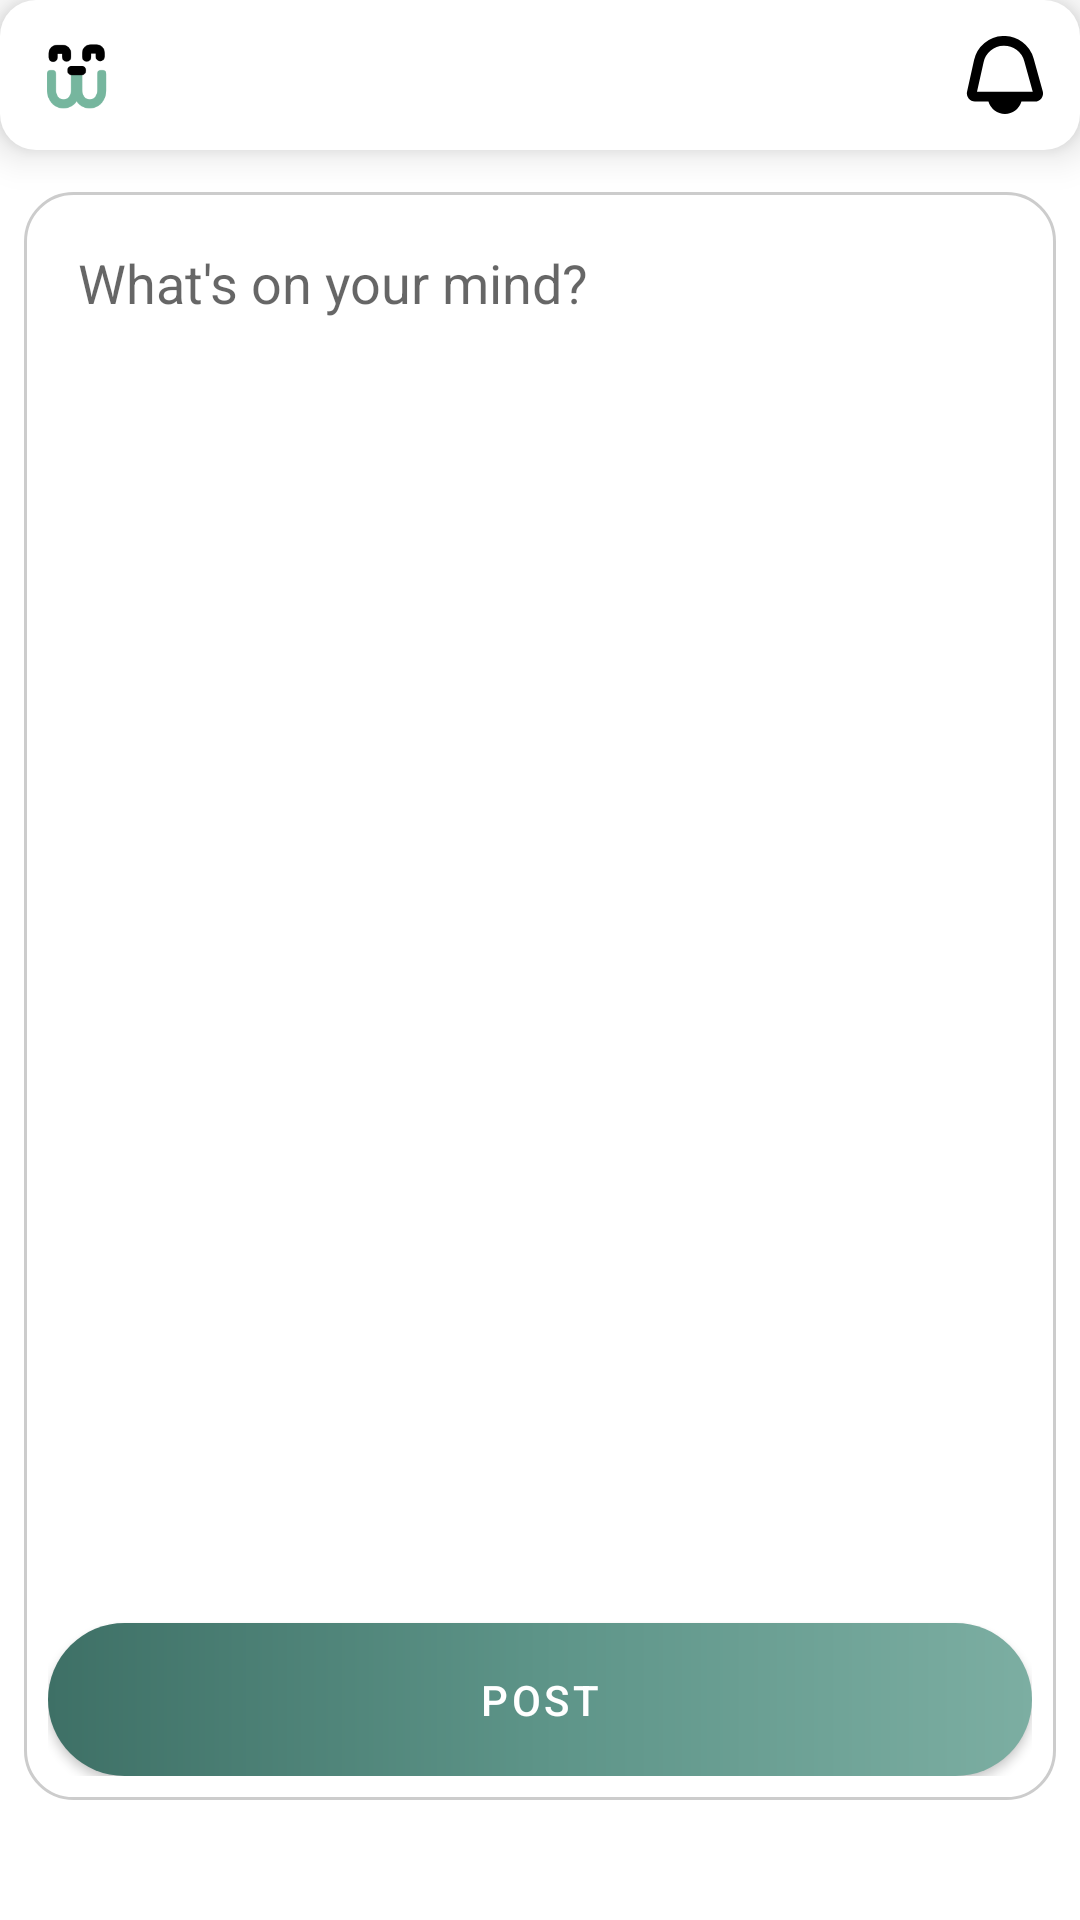

Icons on this 1080 x 1920 Android screen, each with the point to tap as point (x, y):
bell: point (1023, 57)
